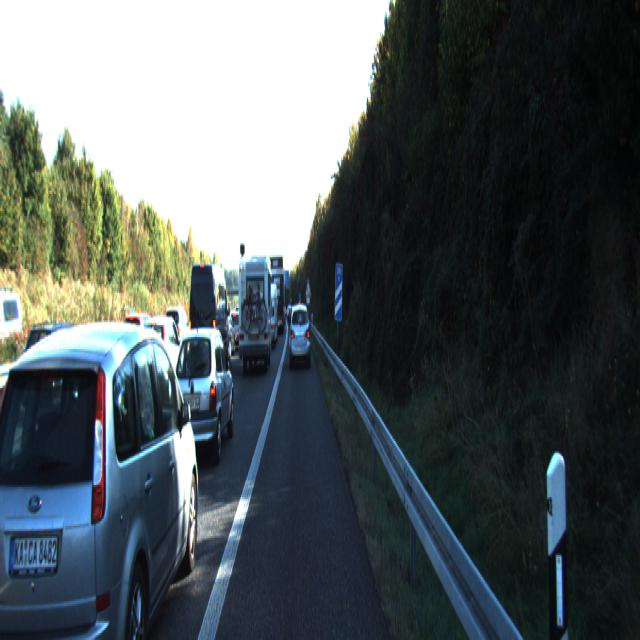Car: (0, 315, 202, 638), (66, 319, 156, 455), (168, 322, 235, 469), (18, 319, 100, 423), (187, 261, 229, 379), (138, 313, 186, 402), (238, 256, 272, 374), (116, 314, 162, 384), (164, 306, 192, 361), (289, 300, 311, 367), (212, 309, 236, 360), (268, 255, 283, 334)
